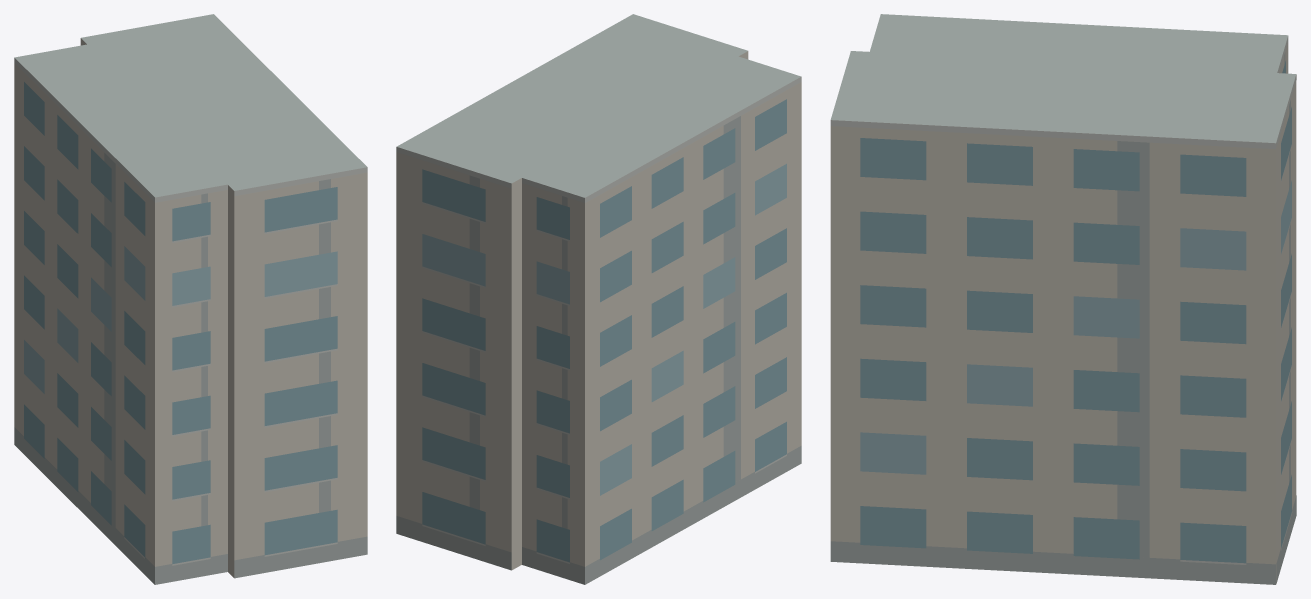
Rendered from survey-upis-32805070.glb.
The picture shows the model from 3 angles, left to right: view 1: azimuth 30°, elevation 25°; view 2: azimuth 150°, elevation 25°; view 3: azimuth 270°, elevation 25°; orthographic projection. The views are drawn at different scales.
Visible parts, largest first — view 1: survey-upis-32805070.tmp; view 2: survey-upis-32805070.tmp; view 3: survey-upis-32805070.tmp.
Part boxes in pixels (left/top/right/bottom): survey-upis-32805070.tmp: left=14, top=14, right=367, bottom=584; survey-upis-32805070.tmp: left=396, top=14, right=801, bottom=584; survey-upis-32805070.tmp: left=830, top=14, right=1296, bottom=584.
Bounding box in the file's own units: 11.24 × 17.9 × 17.12.
